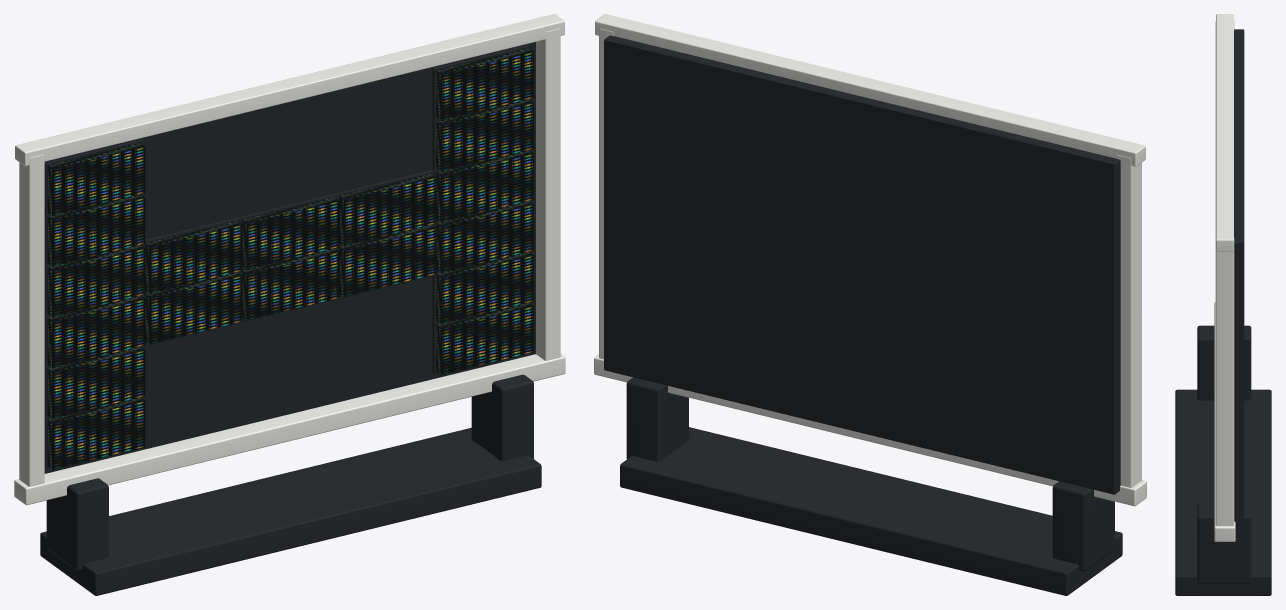
Rendered from signage-h.glb.
The picture shows the model from 3 angles, left to right: view 1: azimuth 30°, elevation 25°; view 2: azimuth 150°, elevation 25°; view 3: azimuth 270°, elevation 25°; orthographic projection. The views are drawn at different scales.
Visible parts, largest first — view 1: H shape rear frame, H shape stabilizer base, H shape bottom rail, H shape top rail, H shape left side rail, H shape right side rail, H shape LED module 0-5, H shape LED module 0-3, H shape LED module 0-0, H shape LED module 0-4, H shape LED module 0-1, H shape LED module 0-2 (+14 smaller); view 2: H shape rear frame, H shape stabilizer base, H shape top rail, H shape left side rail, H shape slim foot -0.70, H shape slim foot 0.70, H shape bottom rail, H shape right side rail; view 3: H shape stabilizer base, H shape right side rail, H shape rear frame, H shape top rail, H shape slim foot 0.70, H shape slim foot -0.70, H shape bottom rail, H shape left side rail.
Boxes of the visible parts, x1,y1,x2,y2 form: H shape rear frame: (44, 42, 535, 473); H shape stabilizer base: (40, 427, 541, 595); H shape bottom rail: (14, 354, 565, 505); H shape top rail: (15, 14, 564, 166); H shape left side rail: (19, 154, 44, 486); H shape right side rail: (536, 28, 560, 360); H shape LED module 0-5: (47, 143, 145, 215); H shape LED module 0-3: (47, 245, 145, 317); H shape LED module 0-0: (47, 397, 145, 469); H shape LED module 0-4: (47, 194, 145, 266); H shape LED module 0-1: (47, 346, 145, 418); H shape LED module 0-2: (47, 296, 145, 367); H shape rear frame: (604, 35, 1120, 494); H shape stabilizer base: (620, 427, 1122, 595); H shape top rail: (595, 14, 1145, 166); H shape left side rail: (1116, 154, 1141, 487); H shape slim foot -0.70: (1052, 481, 1114, 571); H shape slim foot 0.70: (626, 377, 688, 461); H shape bottom rail: (594, 354, 1146, 506); H shape right side rail: (599, 28, 613, 359); H shape stabilizer base: (1175, 389, 1271, 595); H shape right side rail: (1215, 238, 1234, 525); H shape rear frame: (1234, 29, 1244, 525); H shape top rail: (1216, 14, 1233, 251); H shape slim foot 0.70: (1197, 503, 1251, 583); H shape slim foot -0.70: (1197, 325, 1251, 400); H shape bottom rail: (1214, 302, 1235, 541); H shape left side rail: (1215, 21, 1234, 237).
Size of the model in its own units: 1.78 by 1.38 by 0.32.
Materials: 3 (1 with a texture image).
